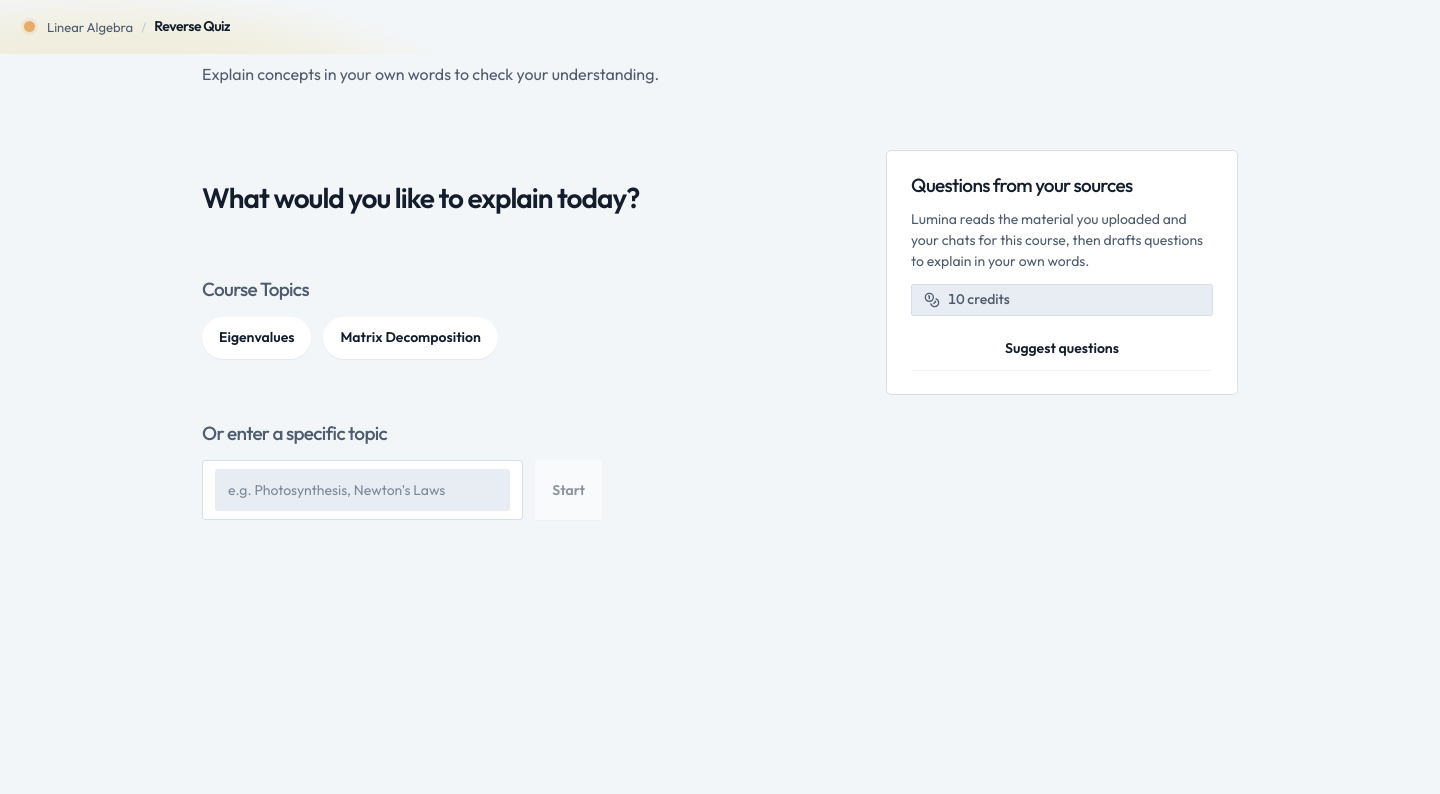
it: ReverseQuizPage › names a provider outage and retries without a retype
Click the button "Eigenvalues" at (257, 338), box [202, 316, 312, 358]
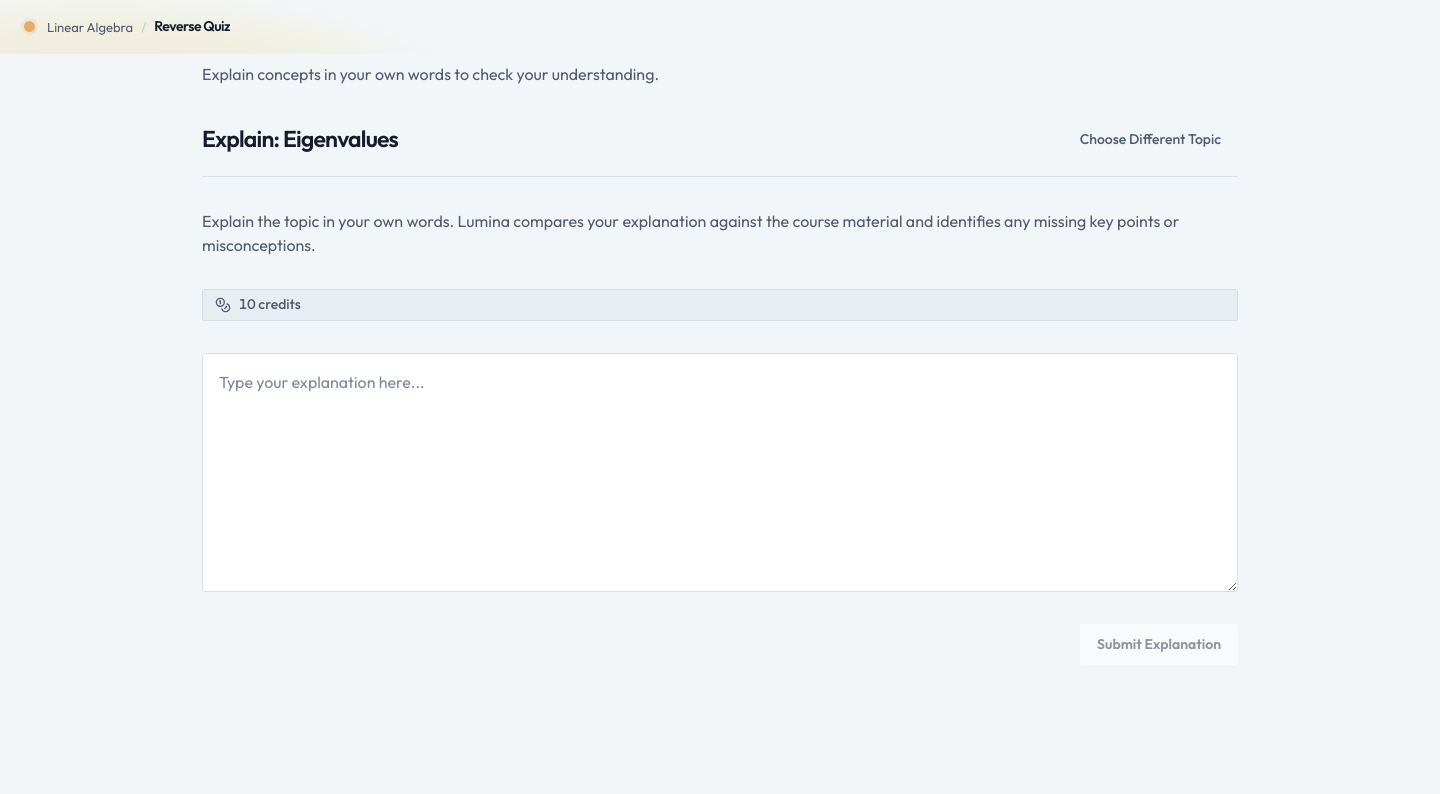
Type "Eigenvalues scale eigenvectors." into the text box at (720, 473), box [202, 353, 1238, 592]
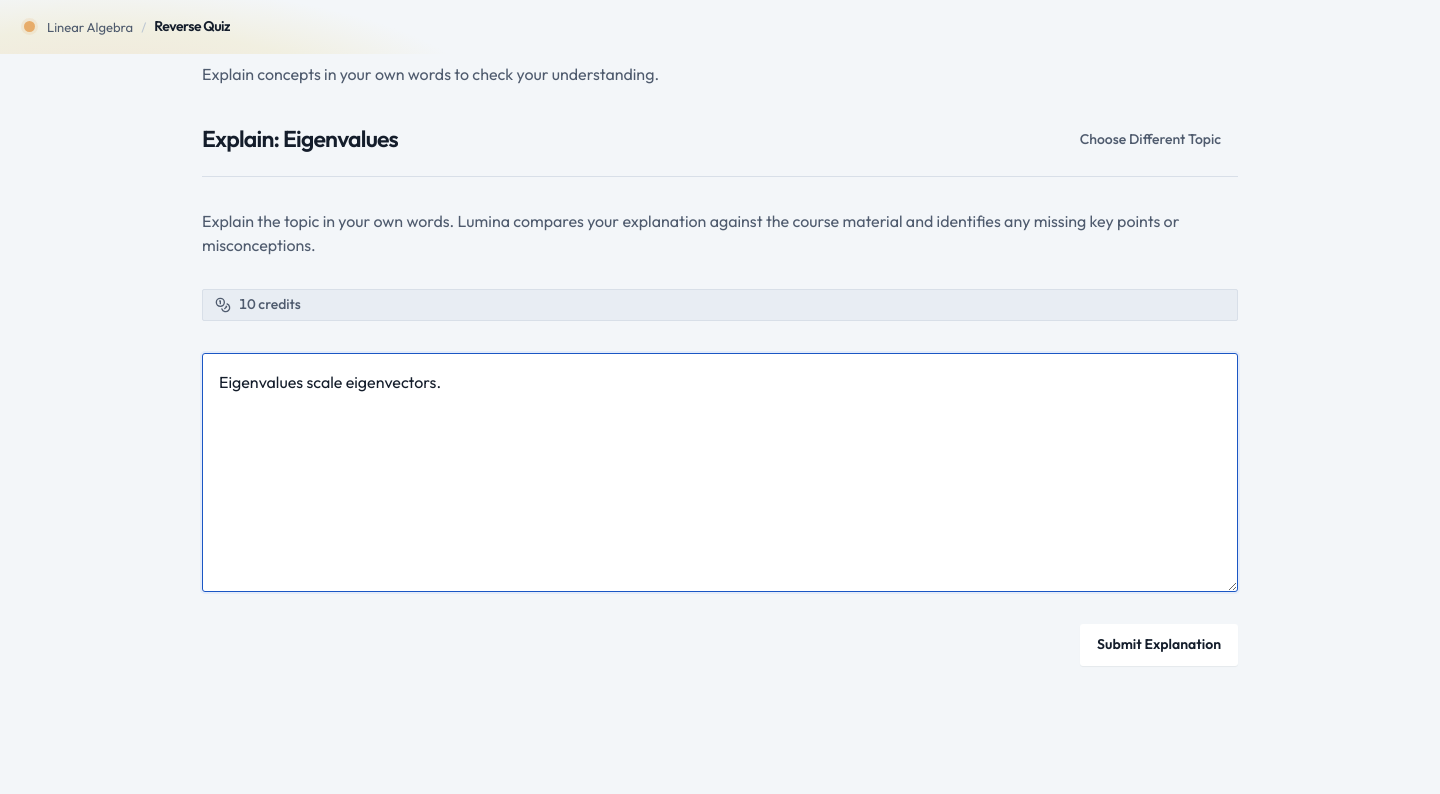
Click the button "Submit Explanation" at (1159, 645), box [1080, 624, 1238, 666]
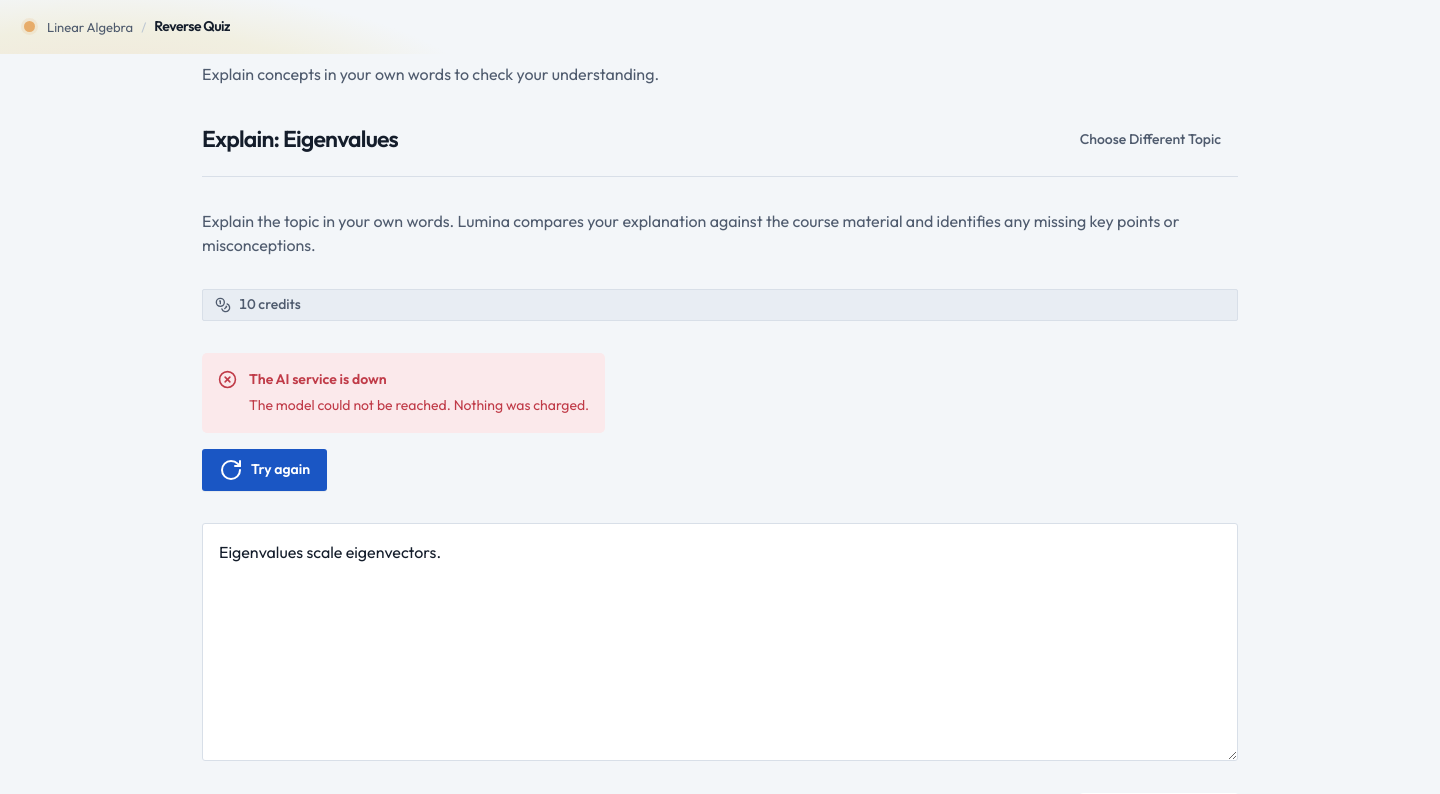
Expected: the text "The AI service is down" is shown, [249, 370, 387, 388]
Click the button "Try again" at (265, 470), box [202, 448, 327, 490]
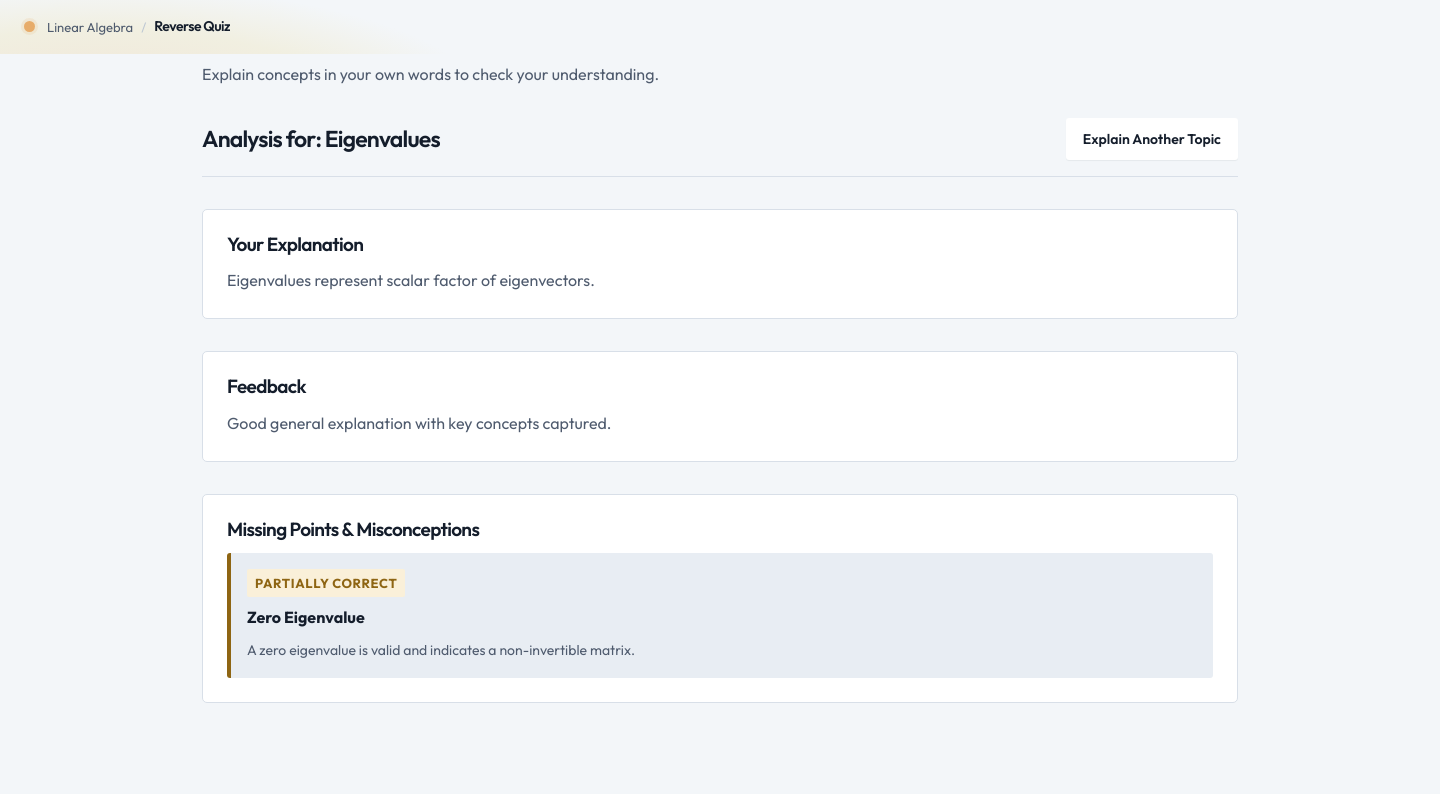
Expected: the heading "Analysis for: Eigenvalues" is shown, [202, 126, 440, 153]
